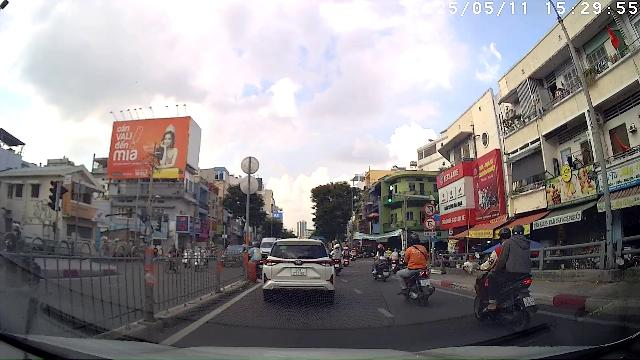103b-cam-oto-re-phai: (424, 216, 436, 230)
103c-cam-oto-re-trai: (424, 202, 436, 216)
